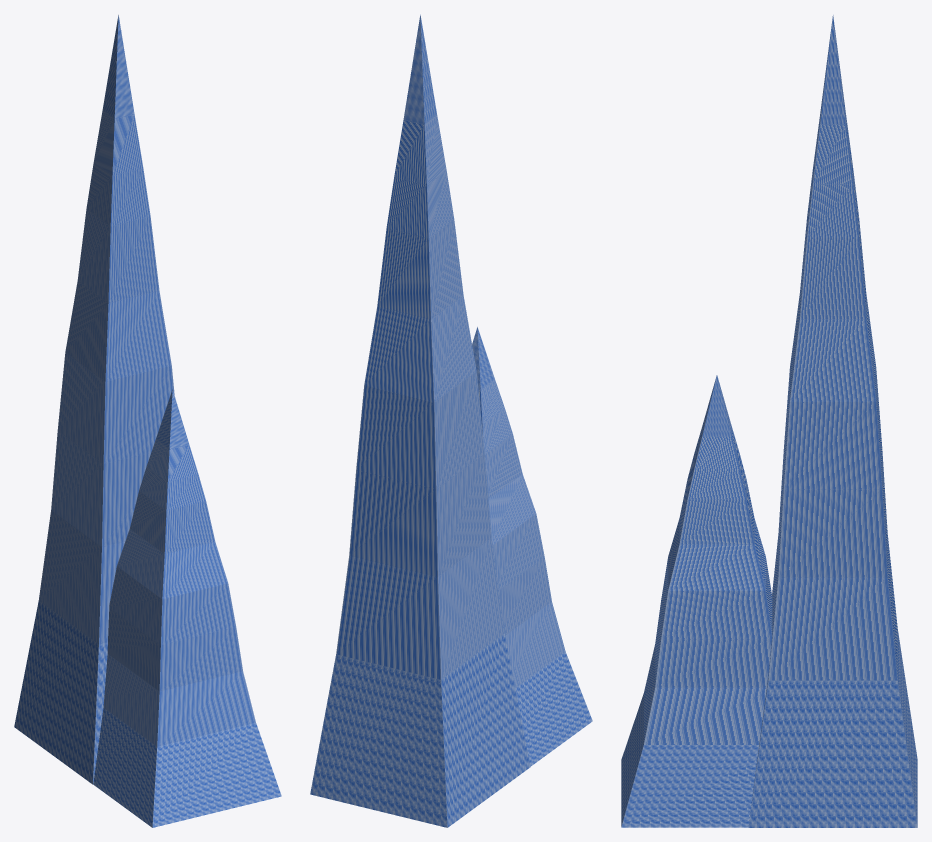
File: turara2.FBX
The picture shows the model from 3 angles, left to right: view 1: azimuth 30°, elevation 25°; view 2: azimuth 150°, elevation 25°; view 3: azimuth 270°, elevation 25°; orthographic projection. The views are drawn at different scales.
Parts seen in each view (by area): view 1: Box001, Box002; view 2: Box001, Box002; view 3: Box001, Box002.
Boxes of the visible parts, box(x1,y1,x2,y2) form: Box001: box(14, 15, 174, 784); Box002: box(93, 389, 281, 827); Box001: box(310, 14, 530, 827); Box002: box(472, 327, 592, 766); Box001: box(748, 15, 917, 827); Box002: box(621, 375, 772, 827).
Size of the model in its own units: 12.91 by 68.82 by 23.71.
